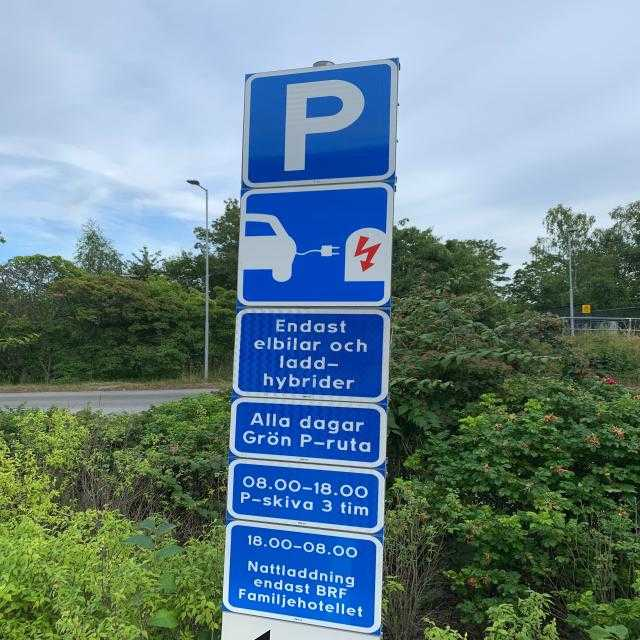psign: (240, 59, 400, 188)
